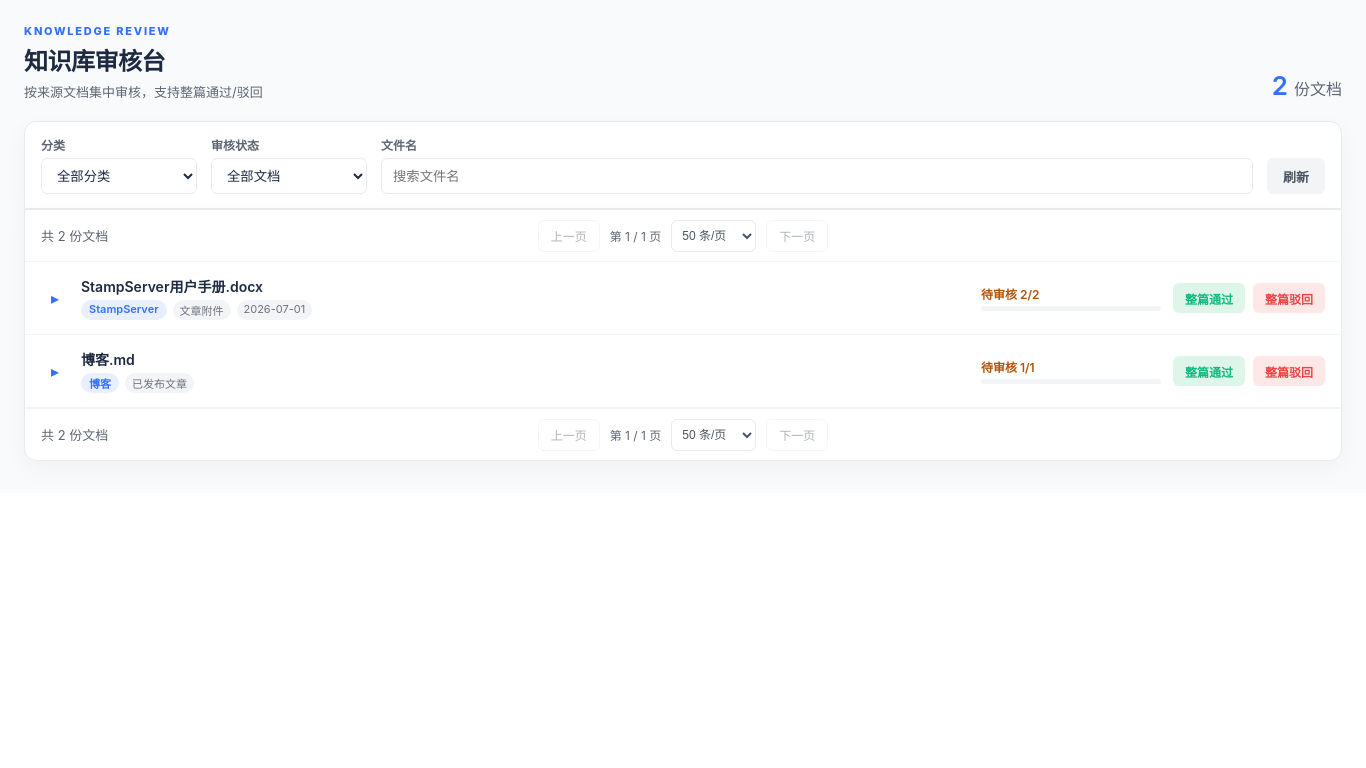
AdminChunksView › collapses a document row when clicked again
Click the element with class "doc-row" that starts with "StampServer用户手册.docx": (172, 286) [51,278,1325,320]
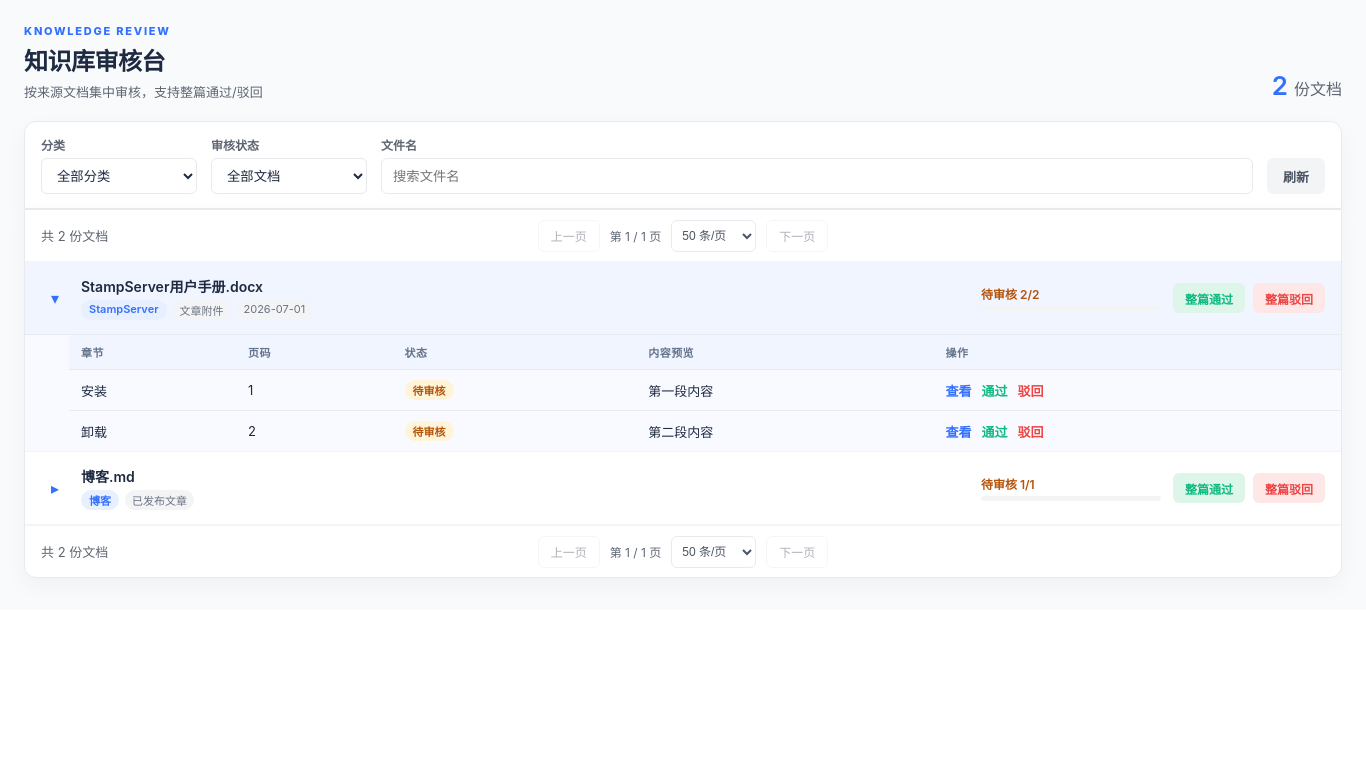
Expected: the text "第一段内容" is shown, [636,370,934,410]
# Click again to collapse
Click the element with class "doc-row" that starts with "StampServer用户手册.docx": (683, 298) [25,262,1341,334]
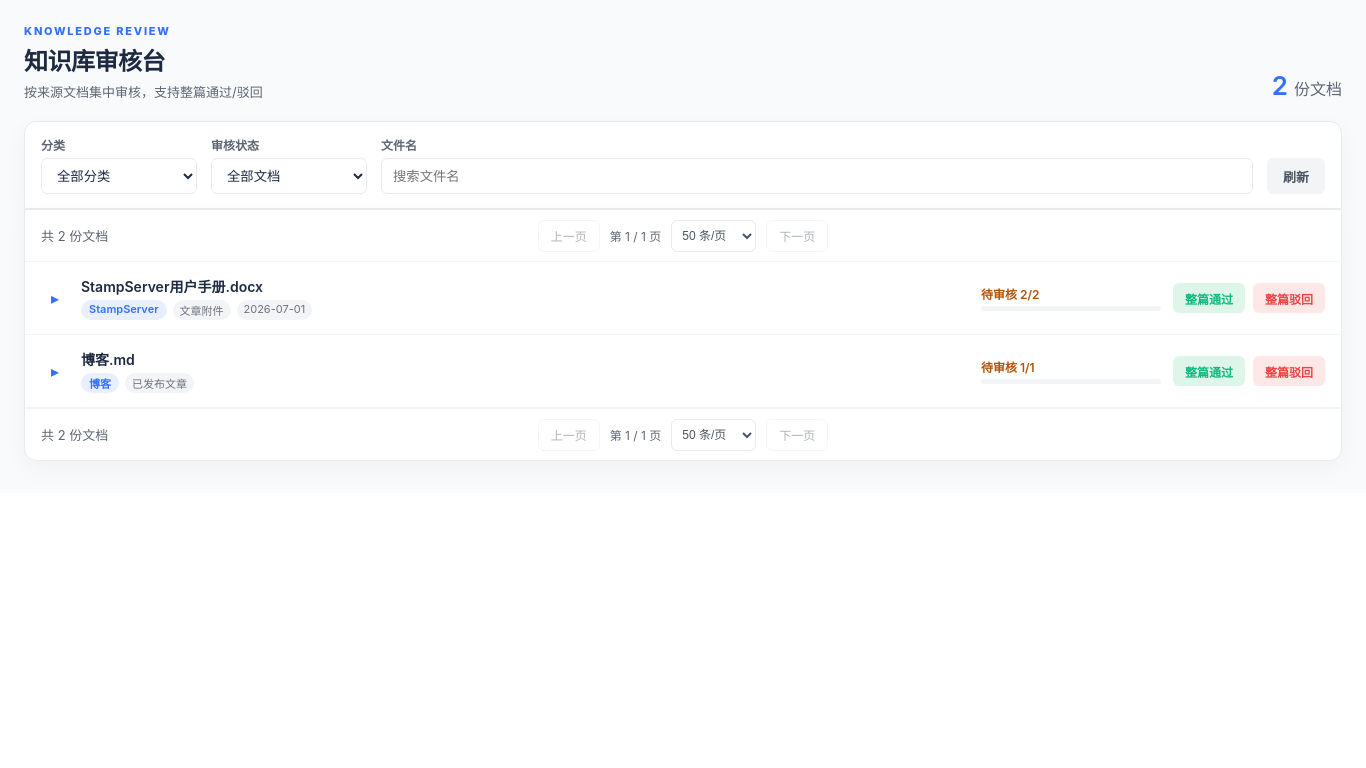
Expected: the text "第一段内容" is gone
